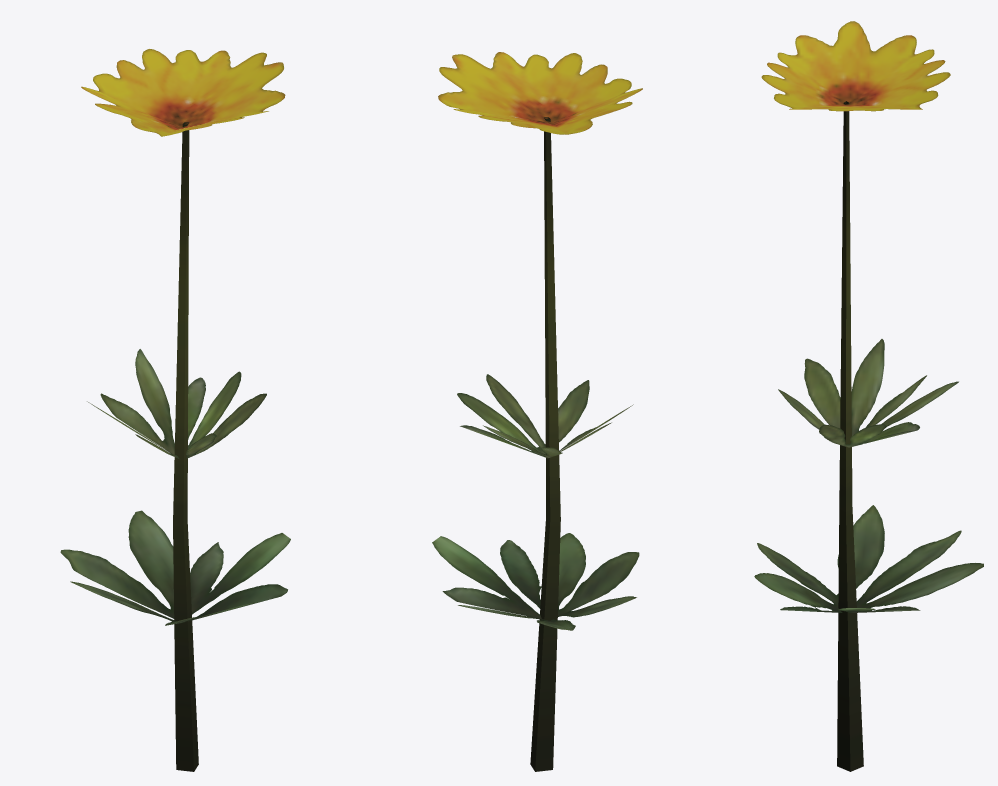
Rendered from flower_s02.fbx.
3 renders of one model, left to right at view 1: azimuth 30°, elevation 25°; view 2: azimuth 150°, elevation 25°; view 3: azimuth 270°, elevation 25°, orthographic. The views are drawn at different scales.
Parts seen in each view (by area): view 1: flower_s02; view 2: flower_s02; view 3: flower_s02.
Boxes of the visible parts, bbox=[...] form: flower_s02: bbox=[60, 49, 290, 771]; flower_s02: bbox=[432, 52, 642, 771]; flower_s02: bbox=[754, 21, 983, 771].
Bounding box in the file's own units: 11.59 × 36.17 × 11.59.
